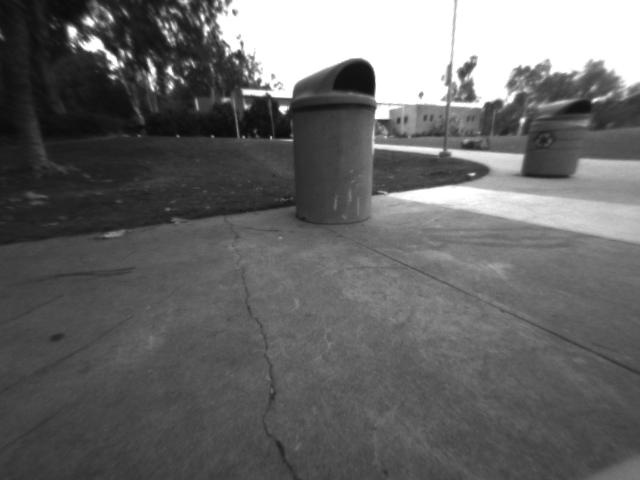trashcan: (280, 51, 388, 235)
